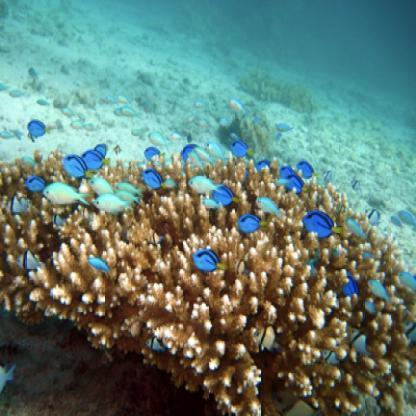Bio: (302, 206, 344, 240), (192, 247, 228, 274), (61, 155, 90, 182), (140, 166, 168, 190), (25, 117, 51, 140), (230, 138, 255, 158), (23, 174, 50, 192)
